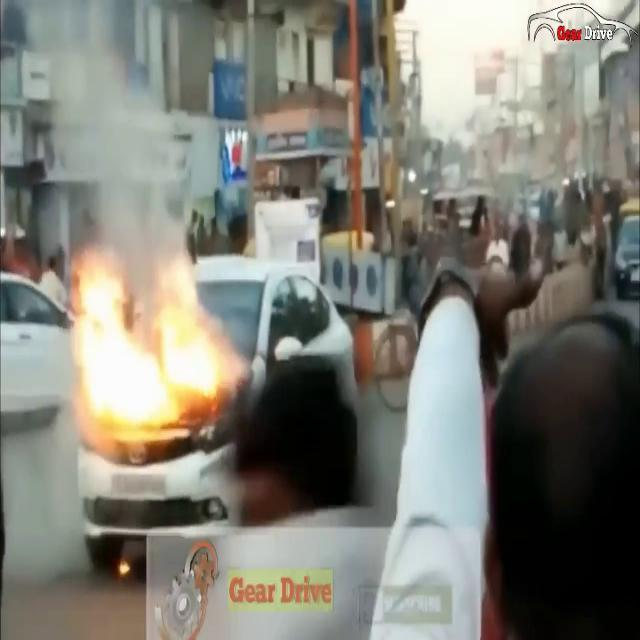Fire: (70, 253, 229, 431)
Smoke: (42, 2, 194, 282)
